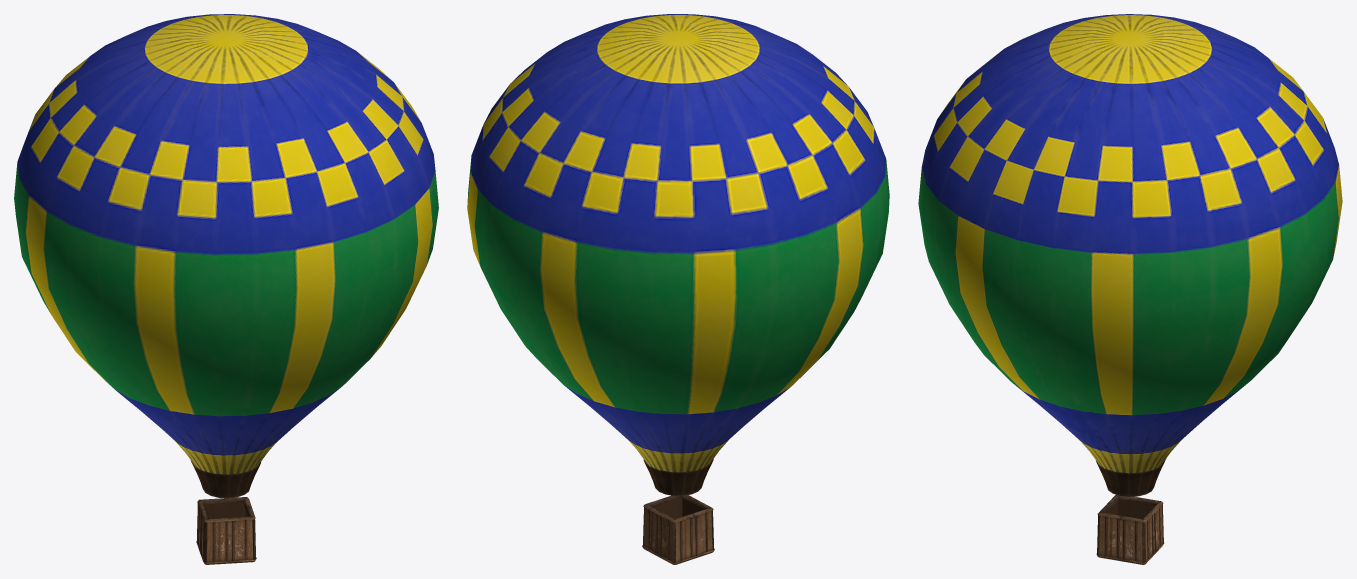
File: Balloon_5.fbx
3 renders of one model, left to right at view 1: azimuth 30°, elevation 25°; view 2: azimuth 150°, elevation 25°; view 3: azimuth 270°, elevation 25°, orthographic.
Visible parts, largest first — view 1: BA_5, crate_5; view 2: BA_5, crate_5; view 3: BA_5, crate_5.
Part boxes in pixels (bbox=[...]): BA_5: bbox=[14, 14, 438, 498]; crate_5: bbox=[196, 497, 256, 564]; BA_5: bbox=[467, 14, 889, 495]; crate_5: bbox=[642, 495, 714, 564]; BA_5: bbox=[918, 14, 1342, 496]; crate_5: bbox=[1096, 494, 1164, 564].
Bounding box in the file's own units: 2265 × 3027 × 2265.
2 materials, 2 textured.
